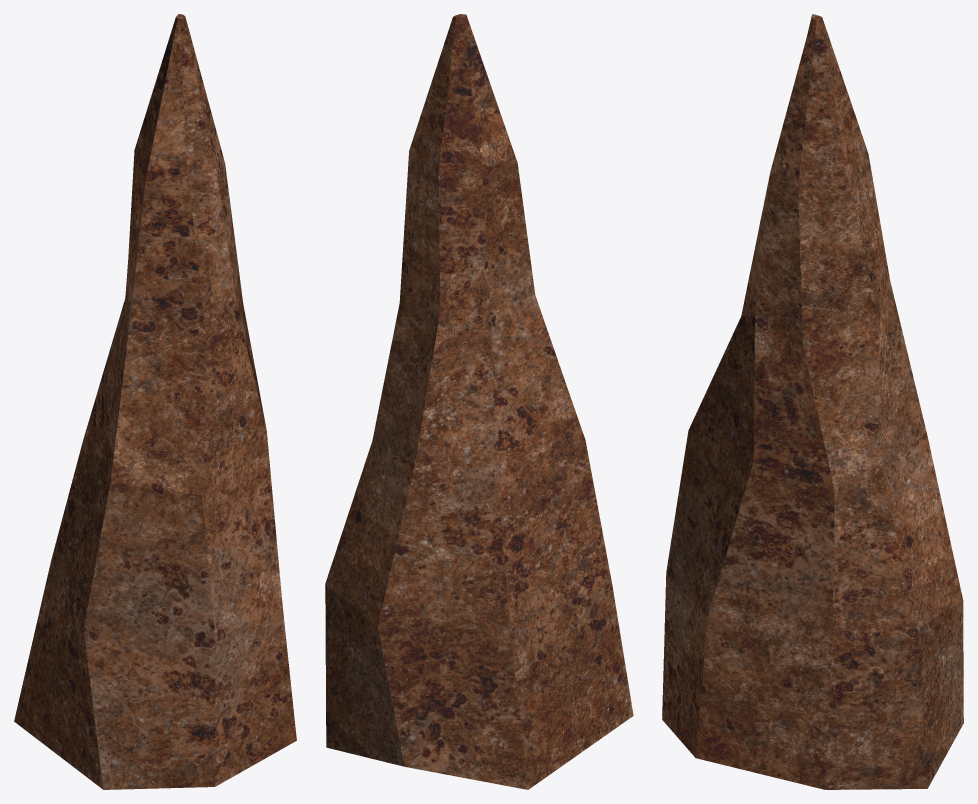
File: rock4.glb
The picture shows the model from 3 angles, left to right: view 1: azimuth 30°, elevation 25°; view 2: azimuth 150°, elevation 25°; view 3: azimuth 270°, elevation 25°; orthographic projection. The views are drawn at different scales.
Visible parts, largest first — view 1: Stal04; view 2: Stal04; view 3: Stal04.
Boxes of the visible parts, <box> form: Stal04: <box>14,14,296,789</box>; Stal04: <box>325,14,633,789</box>; Stal04: <box>662,14,963,789</box>.
Size of the model in its own units: 0.6847 by 2.05 by 0.7666.
1 material, 1 textured.
